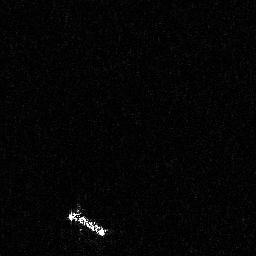ship: (66, 202, 110, 243)
